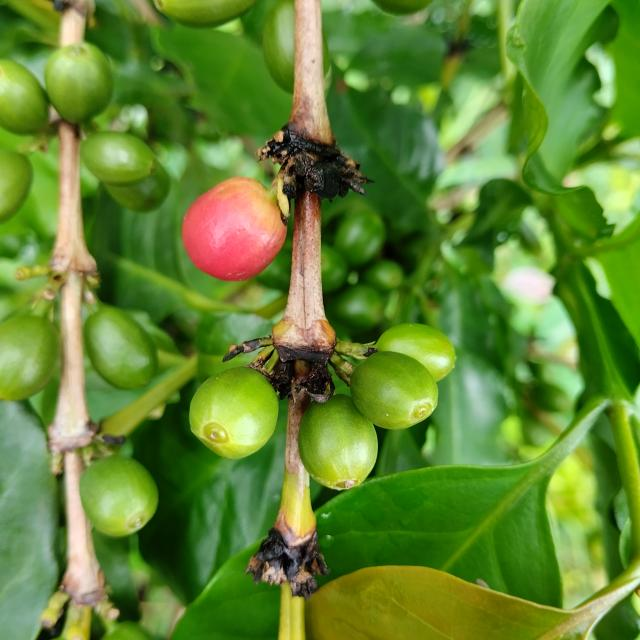green: (189, 367, 278, 459), (298, 395, 378, 491), (350, 352, 439, 430), (79, 455, 158, 537), (83, 306, 157, 389), (44, 41, 112, 122), (0, 315, 57, 401), (375, 324, 456, 381), (80, 130, 156, 185), (0, 59, 48, 134), (104, 159, 170, 212), (0, 149, 31, 223)
red: (182, 176, 287, 281)
